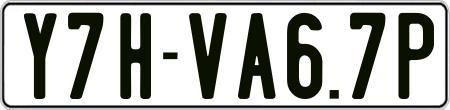6: (286, 13, 322, 100)
7: (348, 10, 385, 102), (66, 11, 102, 100)
A: (237, 13, 274, 103)
H: (119, 13, 156, 100)
P: (397, 11, 435, 98)
V: (186, 11, 225, 101)
Y: (22, 10, 57, 100)
